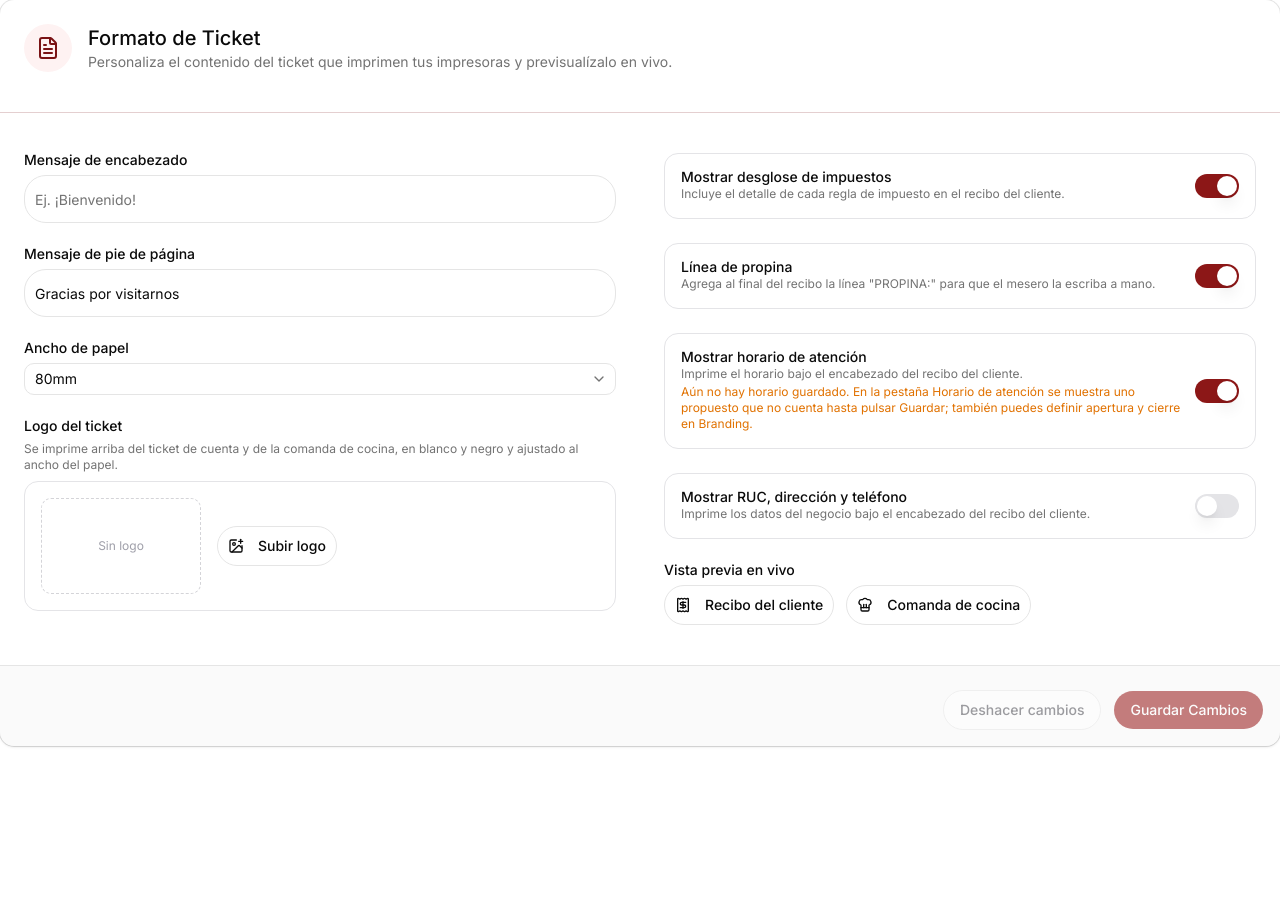
Test: TicketSettings preview: tax, hours and the tip line › a configured tax rate shows the tax row like the printed ticket does
Click the button "Recibo del cliente": [749, 605] box [664,585,834,625]
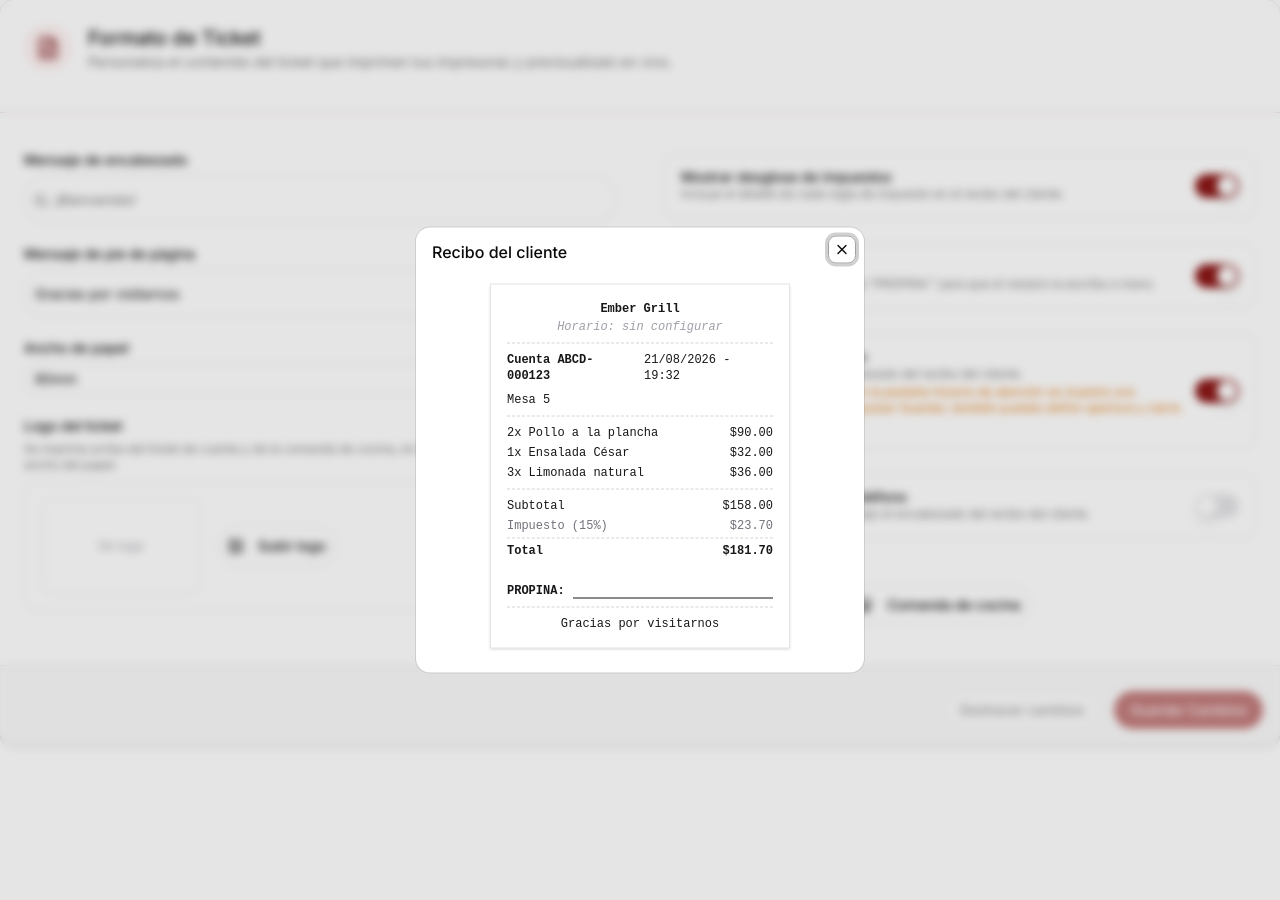
Now the text "Impuesto (15%)" is shown, box [507,518,608,534]
